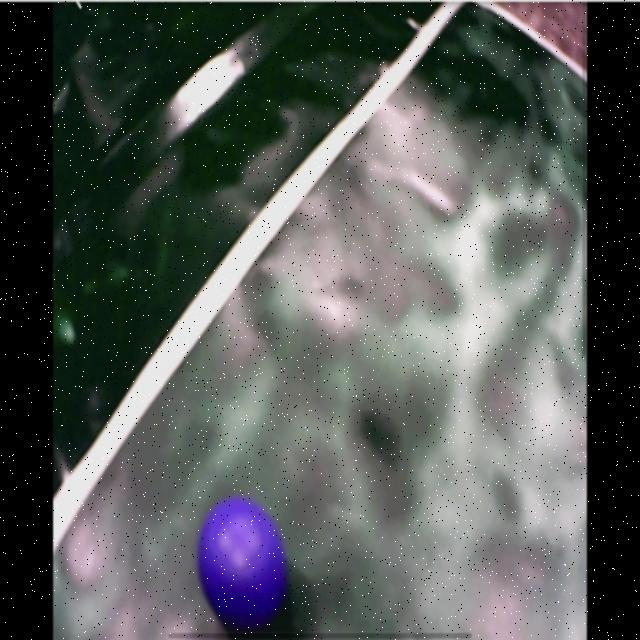ball: (198, 496, 284, 626)
